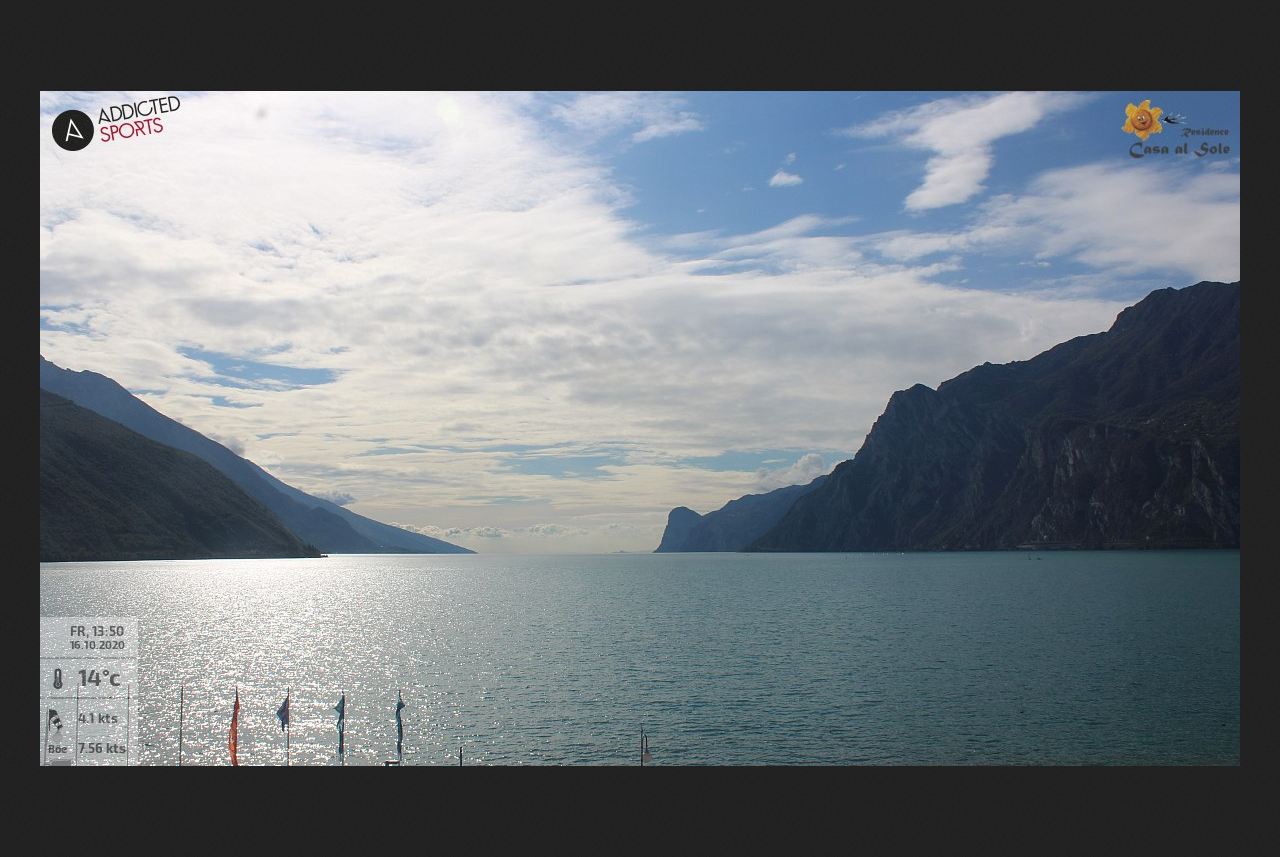maybe: (274, 692, 291, 730)
